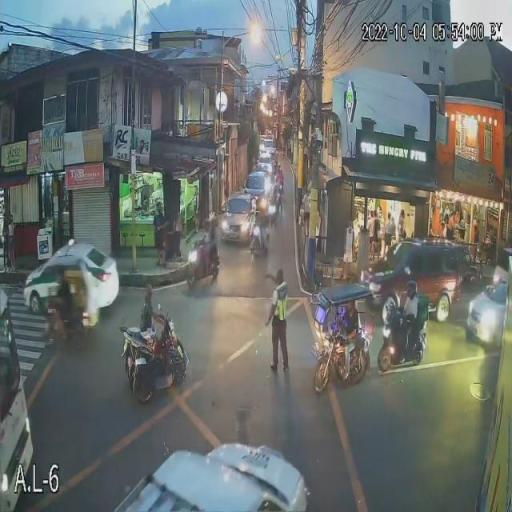helmet: (202, 214, 216, 232), (405, 280, 417, 300)
motorcycle: (377, 308, 428, 374), (44, 296, 96, 346), (184, 240, 221, 292), (249, 224, 270, 258)
rider: (48, 268, 78, 328), (394, 280, 422, 342), (195, 214, 220, 266), (250, 212, 266, 238)
